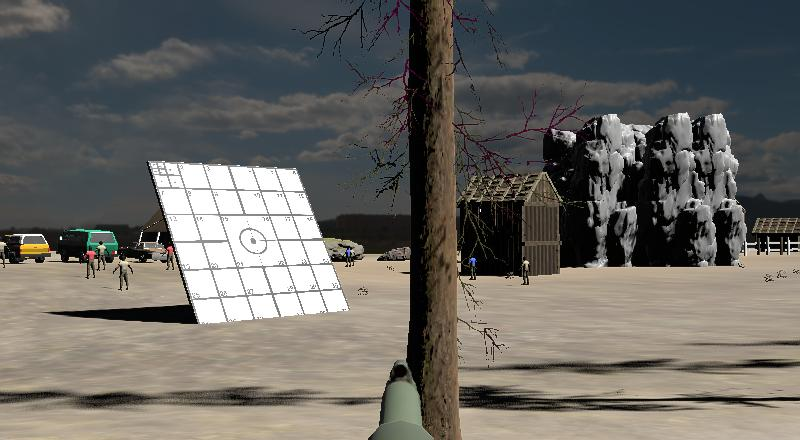House: (456, 170, 565, 278), (752, 215, 800, 253)
Human: (113, 254, 134, 292), (161, 240, 179, 272), (82, 246, 99, 279), (518, 253, 533, 288), (465, 252, 481, 282), (95, 241, 110, 269), (0, 235, 9, 270), (342, 245, 355, 269)
car: (57, 227, 119, 263), (3, 232, 52, 264), (116, 242, 168, 262)
